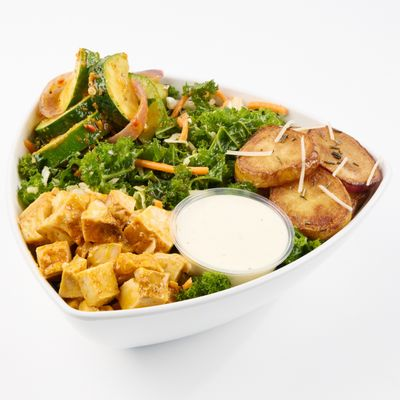curry: (76, 137, 141, 194), (176, 271, 232, 300)
sushi: (7, 42, 393, 352), (171, 187, 294, 285)
